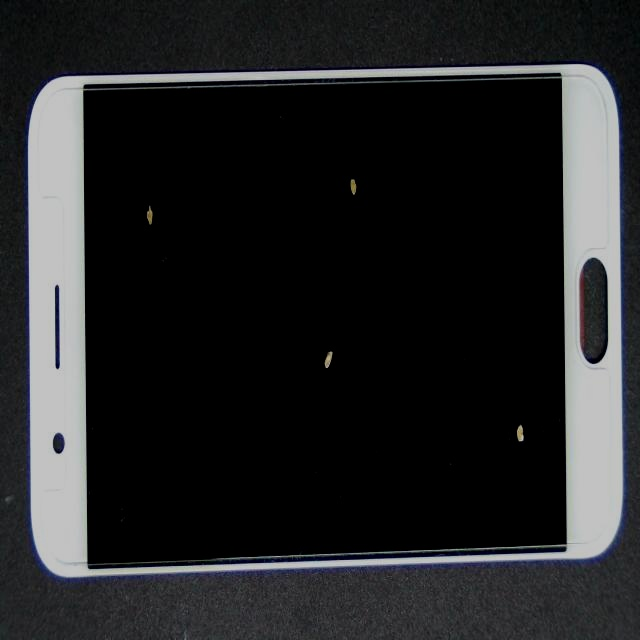stain: (267, 181, 640, 640), (176, 195, 511, 528), (179, 40, 518, 256), (74, 50, 214, 301)
